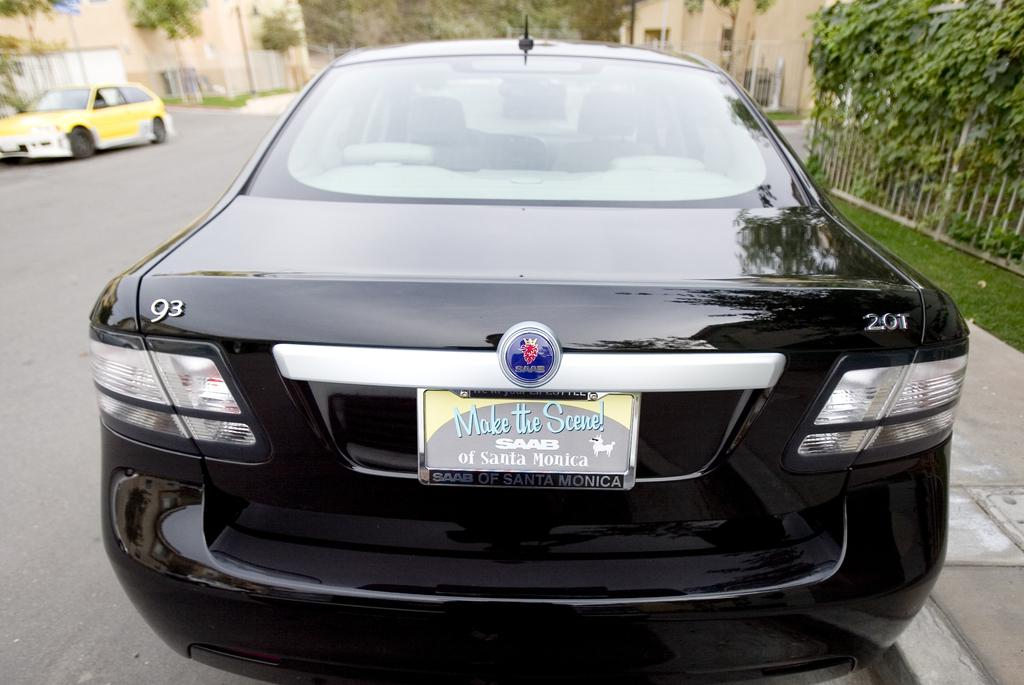taxi: (1, 82, 177, 164)
